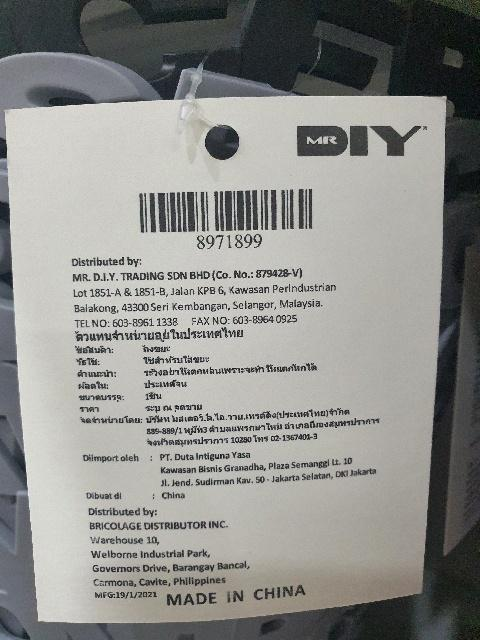Barcode: (126, 180, 327, 251)
